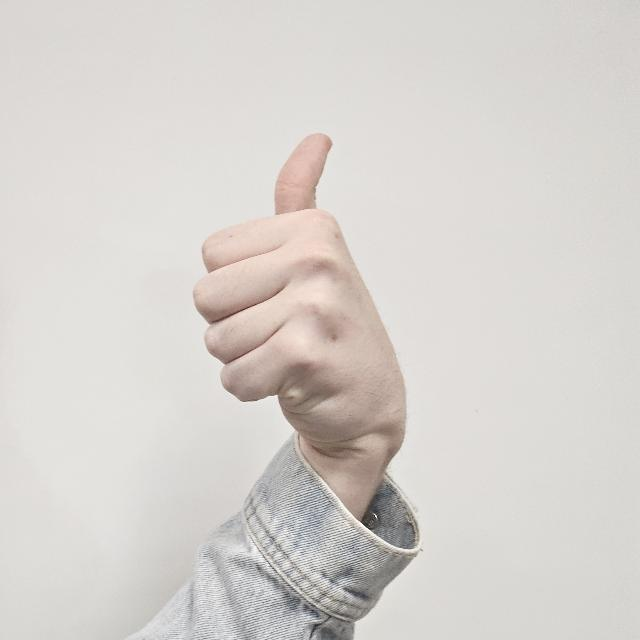Start: (192, 126, 370, 410)
